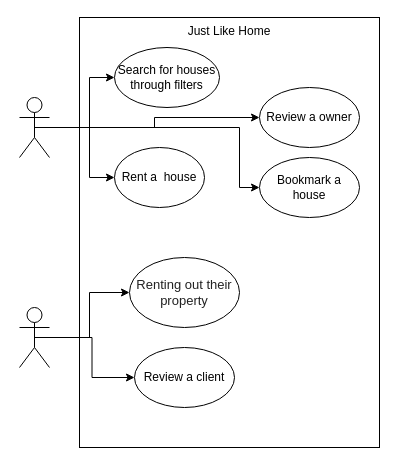
This 397x465 diagram has some shape labels left out. Here are the shapes that lost their labels. From the top down, the box of each, then its label:
(18, 96, 50, 158): Client
(18, 306, 50, 368): Owner
